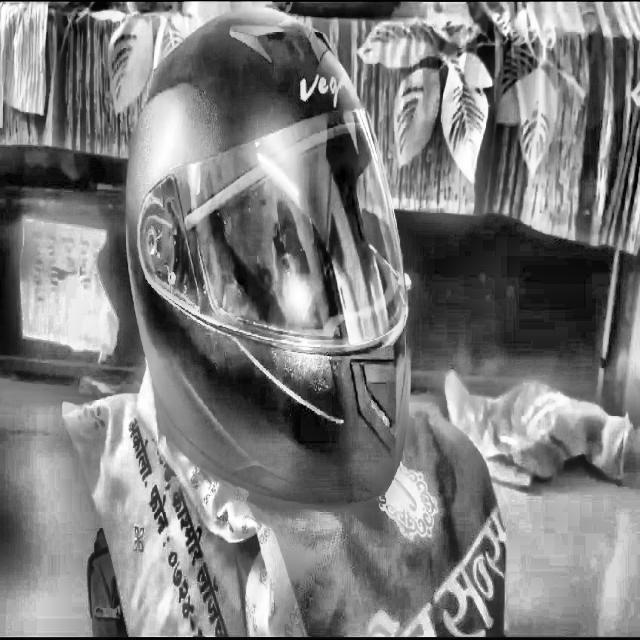Helmet: (122, 9, 421, 508)
